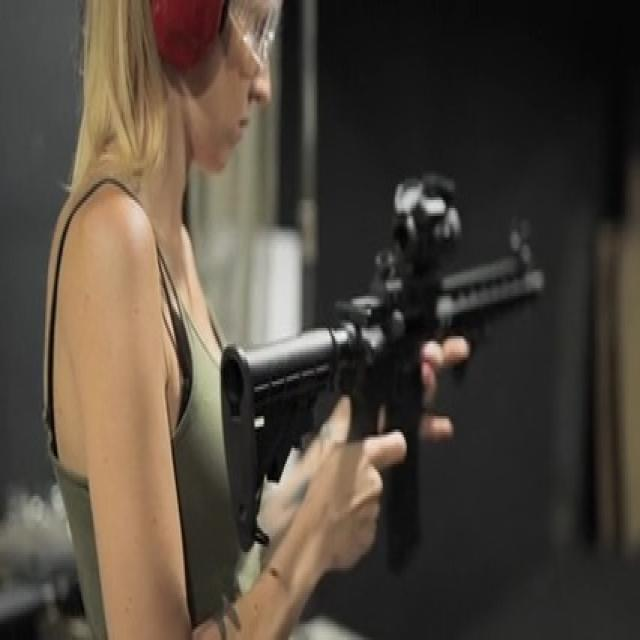Gun_Holder: (218, 159, 574, 604)
Person: (39, 0, 408, 640)
